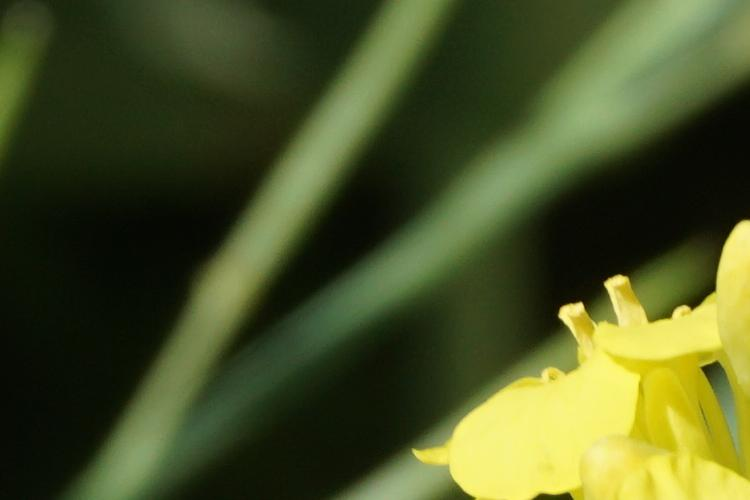yellow: (482, 264, 742, 495)
